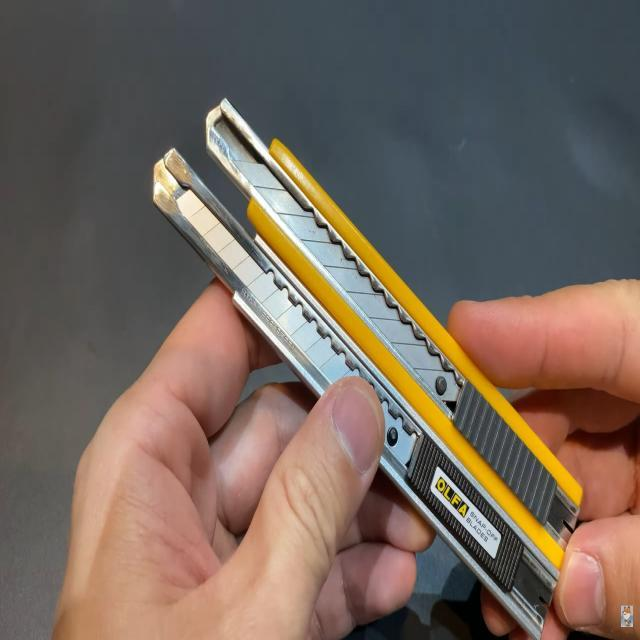cutter: (97, 4, 618, 640)
